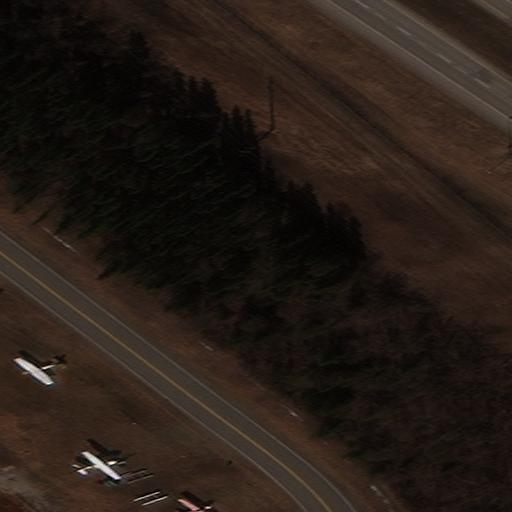Small Civil Transport: (13, 358, 62, 385), (74, 450, 121, 478), (177, 497, 212, 512)
